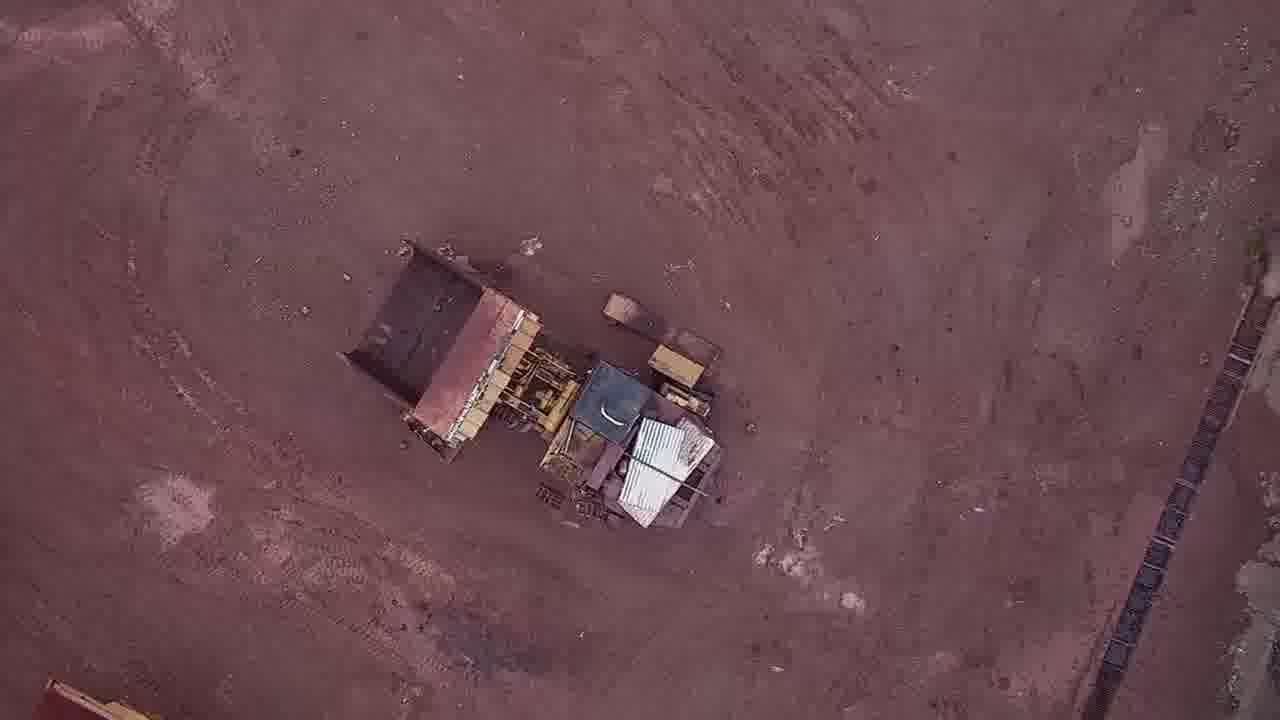heavy_motor_vehicle: (337, 237, 738, 532)
